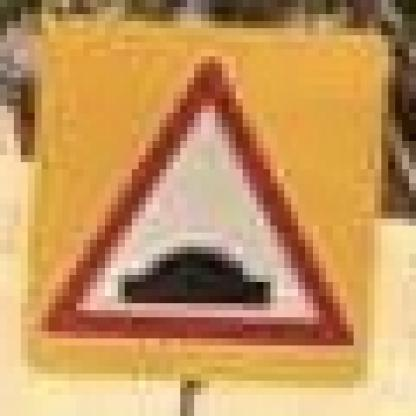Speed Breaker Ahead: (19, 12, 388, 380)
